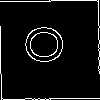O: (25, 24, 72, 65)
